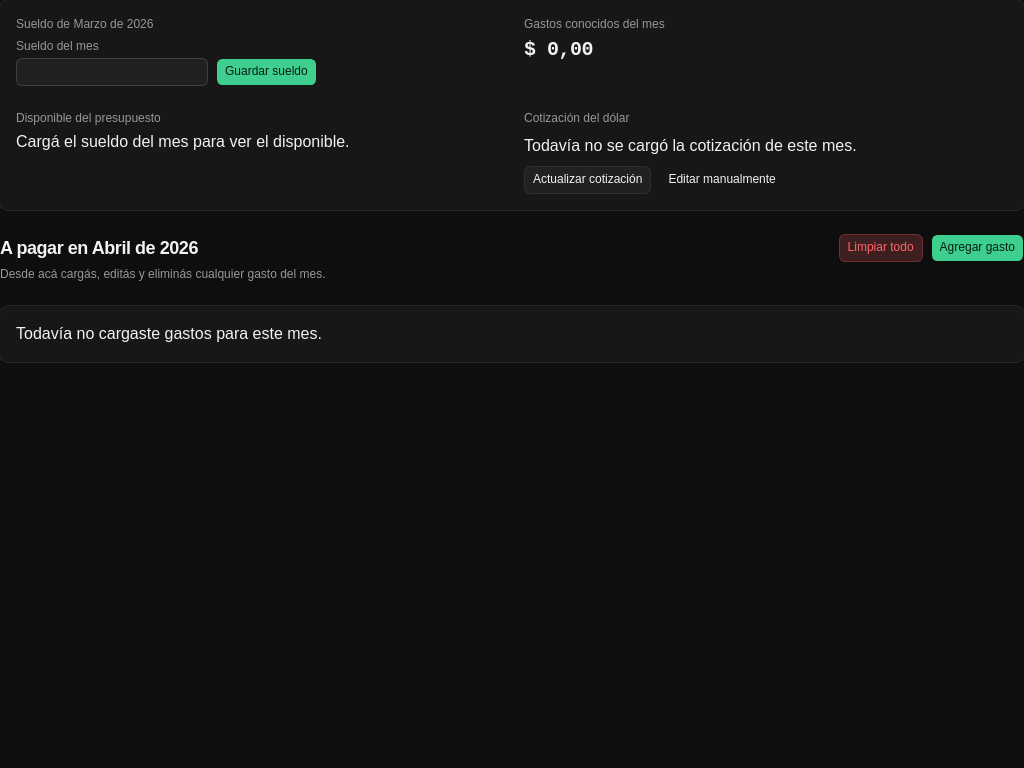
Test: otros gastos desde Presupuesto › no guarda «Otro» sin el texto del medio de pago
Click the button "Agregar gasto": (977, 248) [931, 234, 1023, 262]
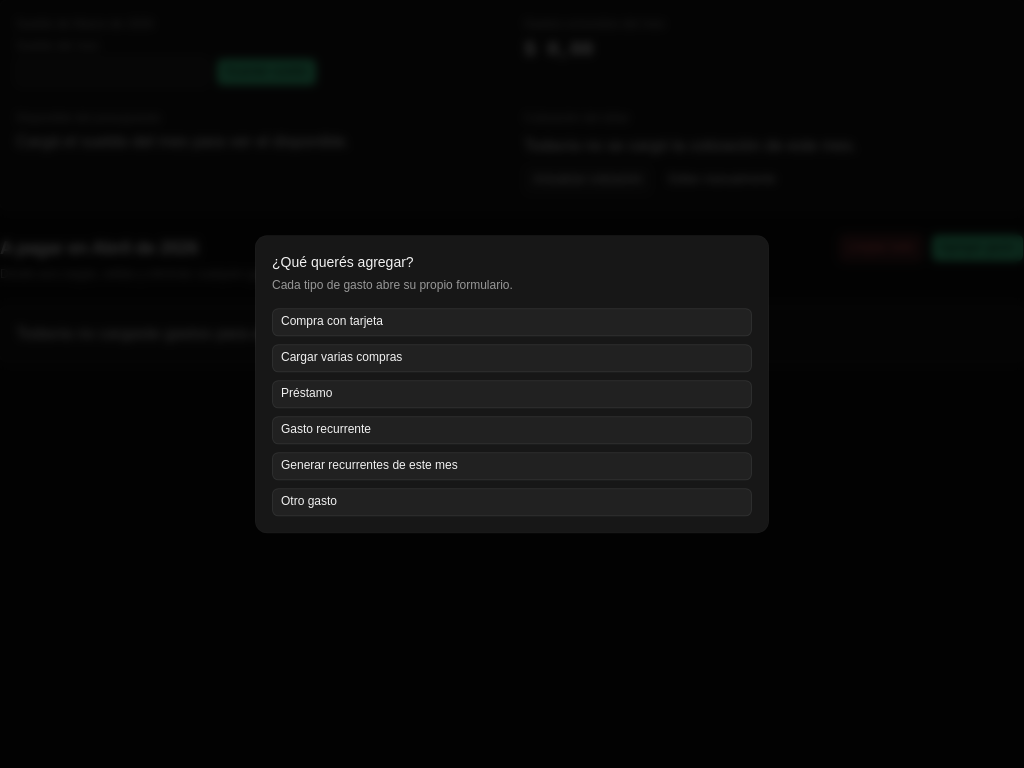
Click the button "Otro gasto": (309, 501) [272, 488, 752, 516]
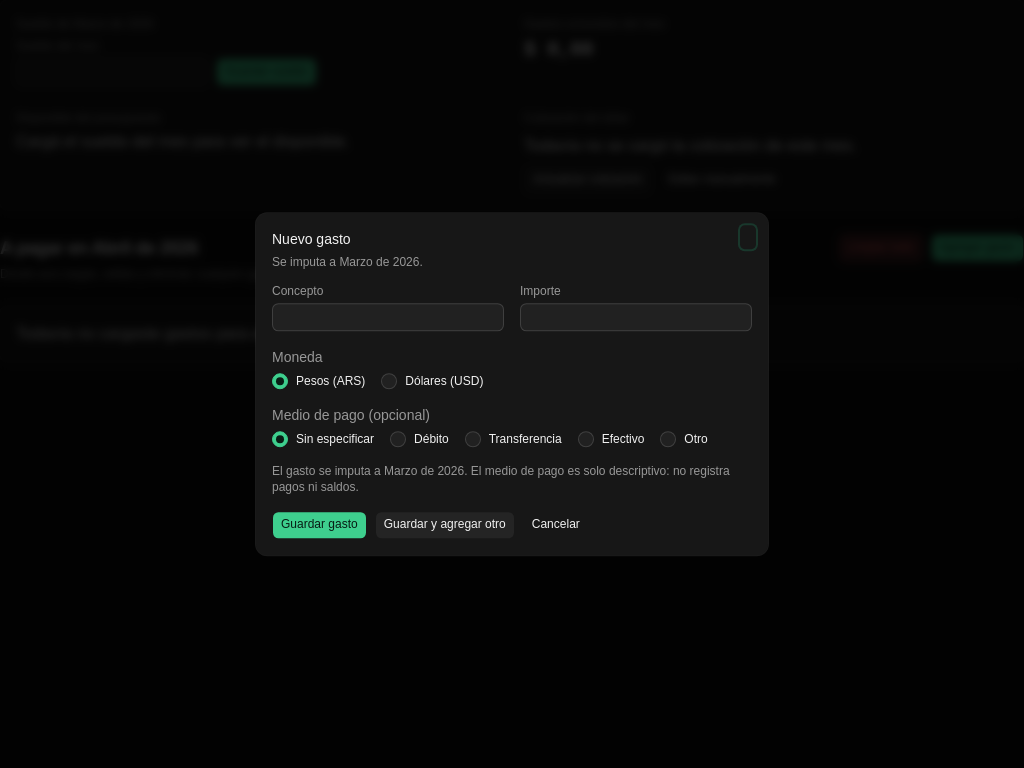
Expected: the field labelled "Concepto" is shown
In the field labelled "Concepto": (388, 317) [272, 303, 504, 331], type "Arreglo del auto"
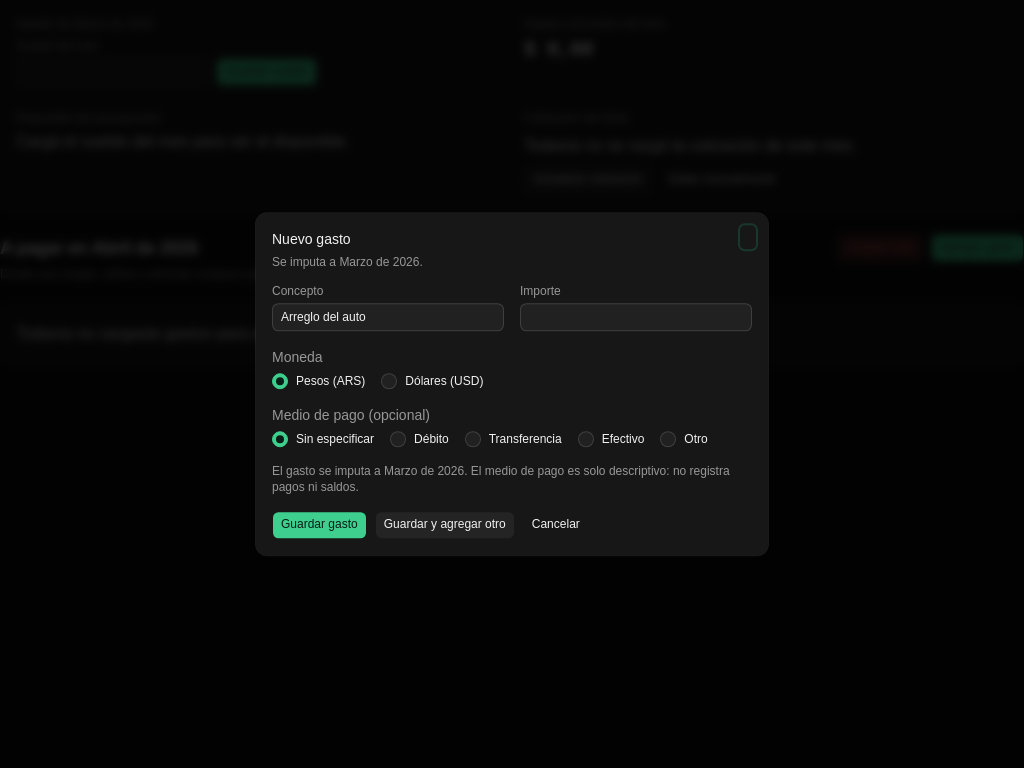
In the field labelled "Importe": (636, 317) [520, 303, 752, 331], type "230000"
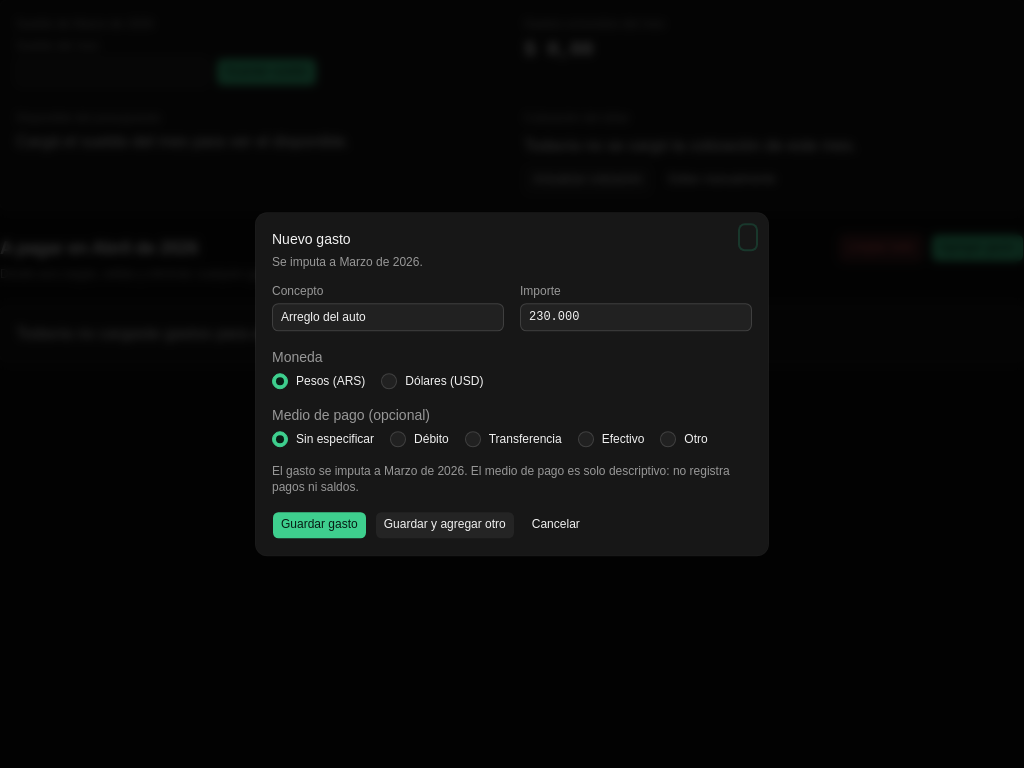
Click the 7th radio button named "Otro": (668, 439) [660, 431, 676, 447]
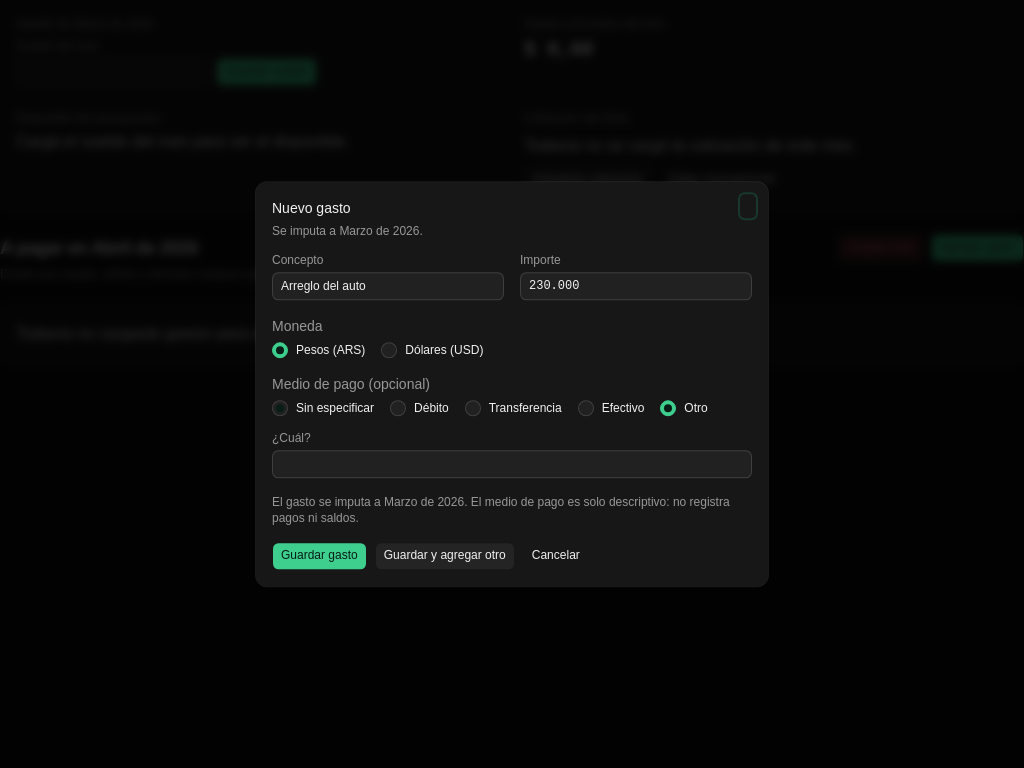
Click the button "Guardar gasto": (319, 556) [272, 542, 367, 570]
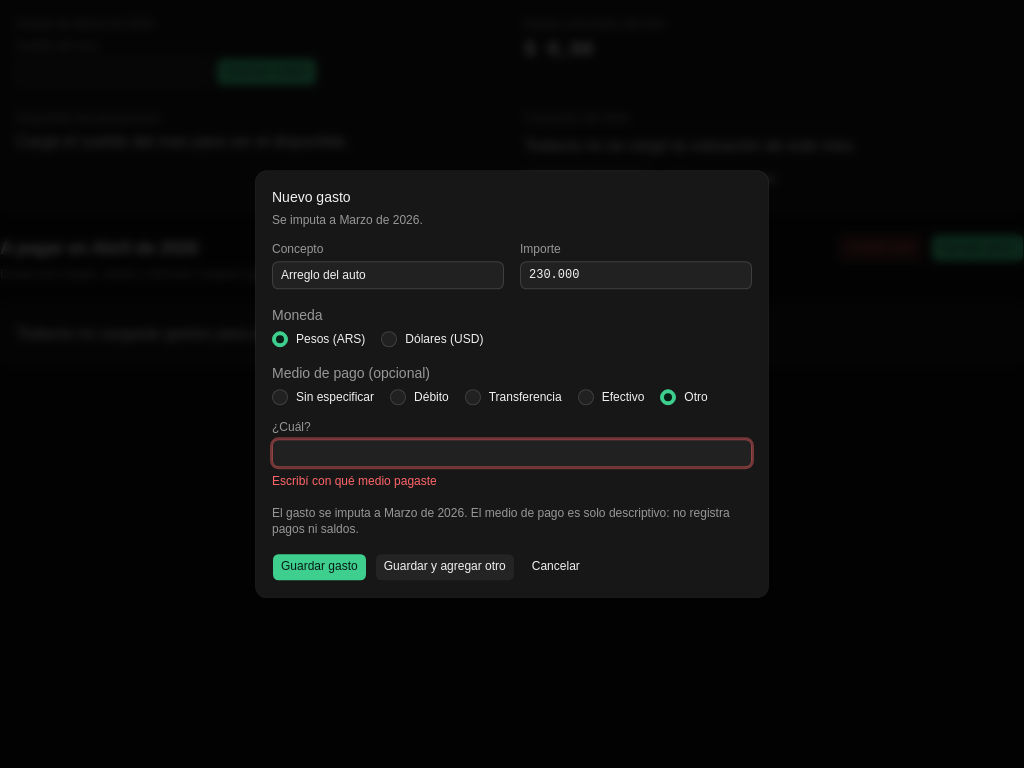
Expected: the text "Escribí con qué medio pagaste" is shown, [272, 474, 437, 488]
